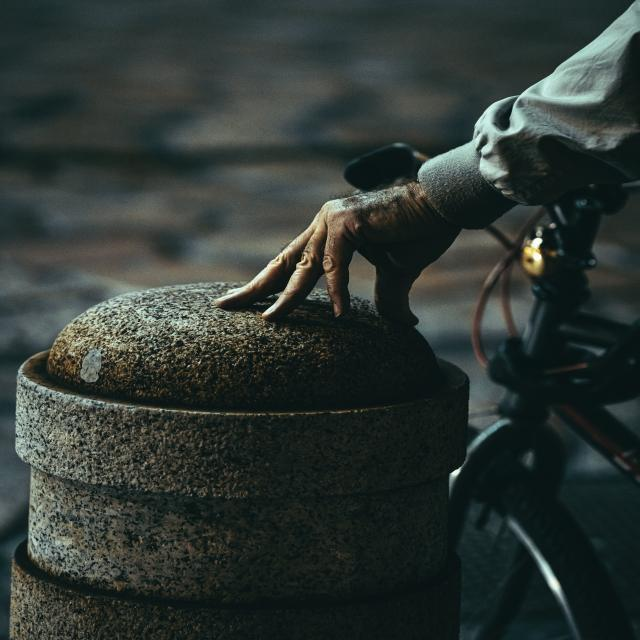metal: (120, 305, 256, 385)
